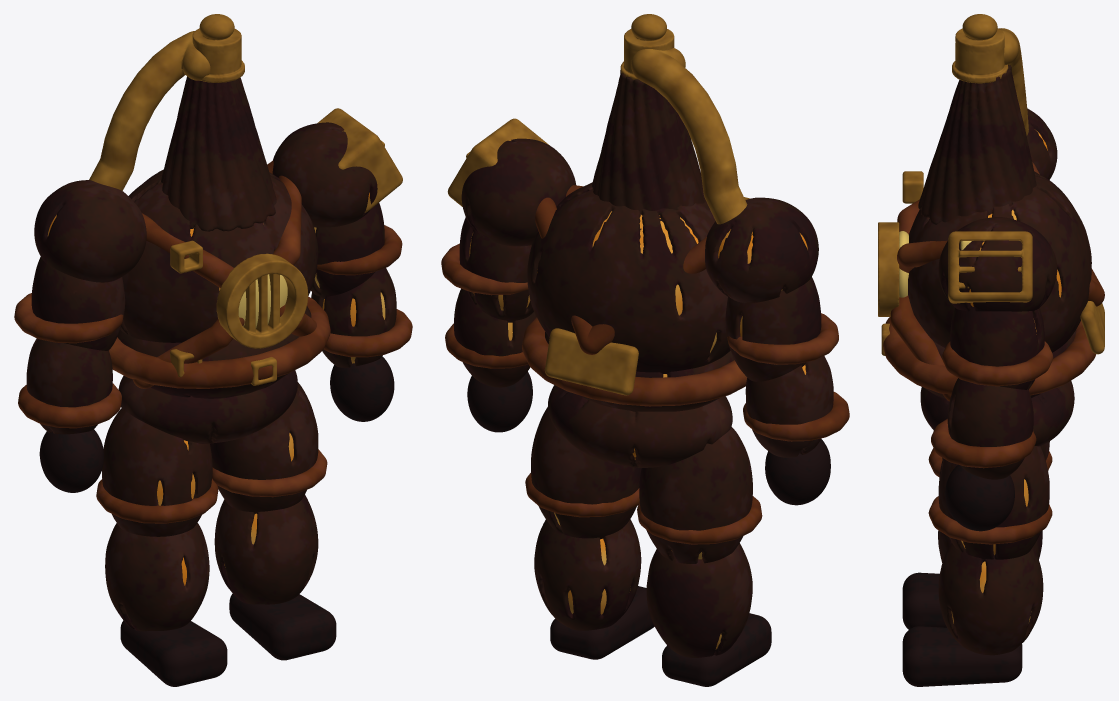
File: bellows-sculpt.glb
The picture shows the model from 3 angles, left to right: view 1: azimuth 30°, elevation 25°; view 2: azimuth 150°, elevation 25°; view 3: azimuth 270°, elevation 25°; orthographic projection. The views are drawn at different scales.
Visible parts, largest first — view 1: bellows_sculpt; view 2: bellows_sculpt; view 3: bellows_sculpt.
Boxes of the visible parts, bbox=[...] form: bellows_sculpt: bbox=[14, 14, 412, 686]; bellows_sculpt: bbox=[441, 14, 849, 686]; bellows_sculpt: bbox=[878, 14, 1104, 686].
Bounding box in the file's own units: 1.26 × 1.99 × 0.6449.
